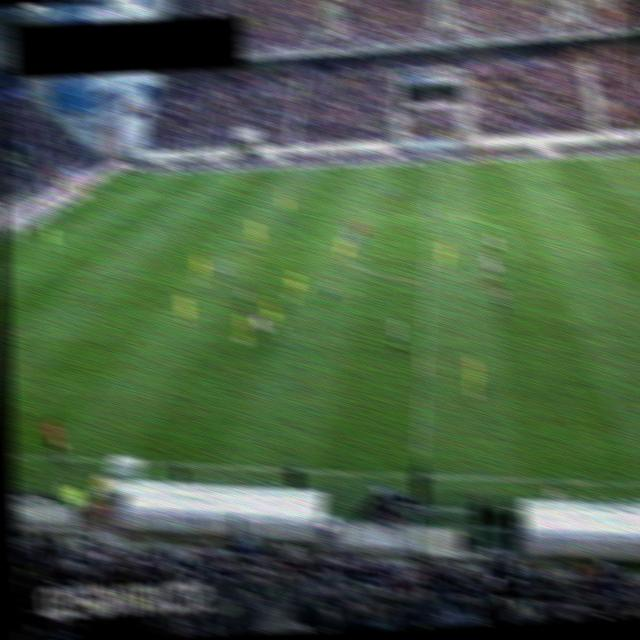bigarea_bottom_inner: (4, 326, 24, 346)
bigarea_top_inner: (175, 188, 195, 205)
bigarea_top_outter: (77, 189, 98, 204)
bottom_arc_area_intersection: (78, 264, 100, 282)
corner: (115, 166, 139, 182)
halfcircle_bottom: (414, 264, 442, 290)
halfcircle_top: (418, 201, 442, 225)
midline_top_intersection: (420, 154, 443, 171)
smallarea_top_inner: (65, 214, 87, 232)
smallarea_top_outter: (32, 217, 51, 231)
top_arc_area_intersection: (137, 218, 157, 233)
